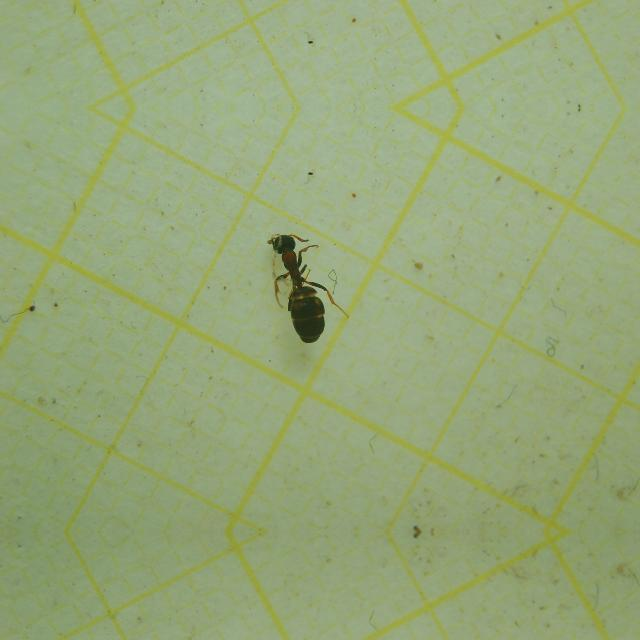Dolichoderus: (248, 226, 352, 350)
